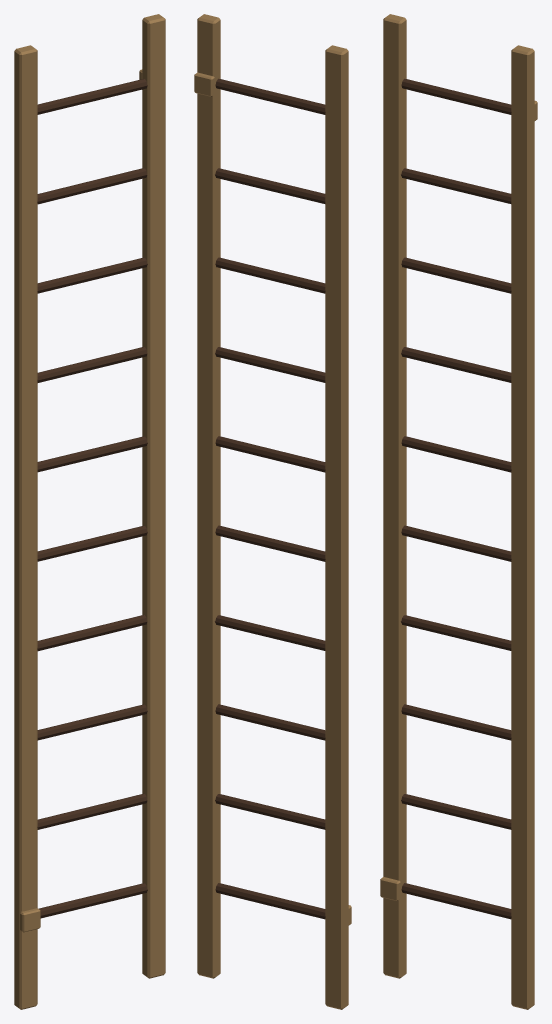
File: ladder.glb
The picture shows the model from 3 angles, left to right: view 1: azimuth 30°, elevation 25°; view 2: azimuth 150°, elevation 25°; view 3: azimuth 330°, elevation 25°; orthographic projection.
Parts seen in each view (by area): view 1: ladder; view 2: ladder; view 3: ladder.
Boxes of the visible parts, left/top/right/bottom form: ladder: left=14, top=14, right=165, bottom=1009; ladder: left=194, top=14, right=351, bottom=1009; ladder: left=380, top=14, right=537, bottom=1009.
Bounding box in the file's own units: 0.48 × 3 × 0.07.
